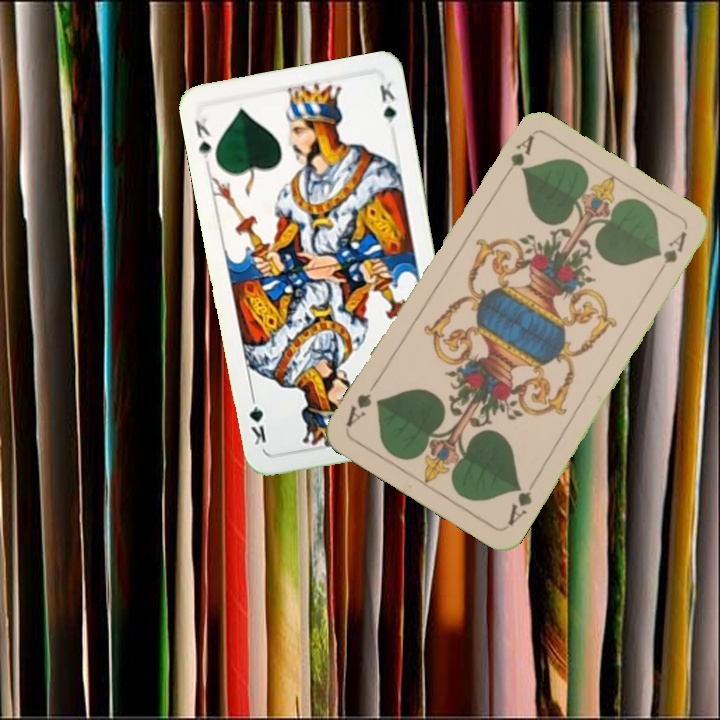GA: (497, 131, 536, 184), (503, 480, 535, 529)
GK: (191, 113, 214, 168)
